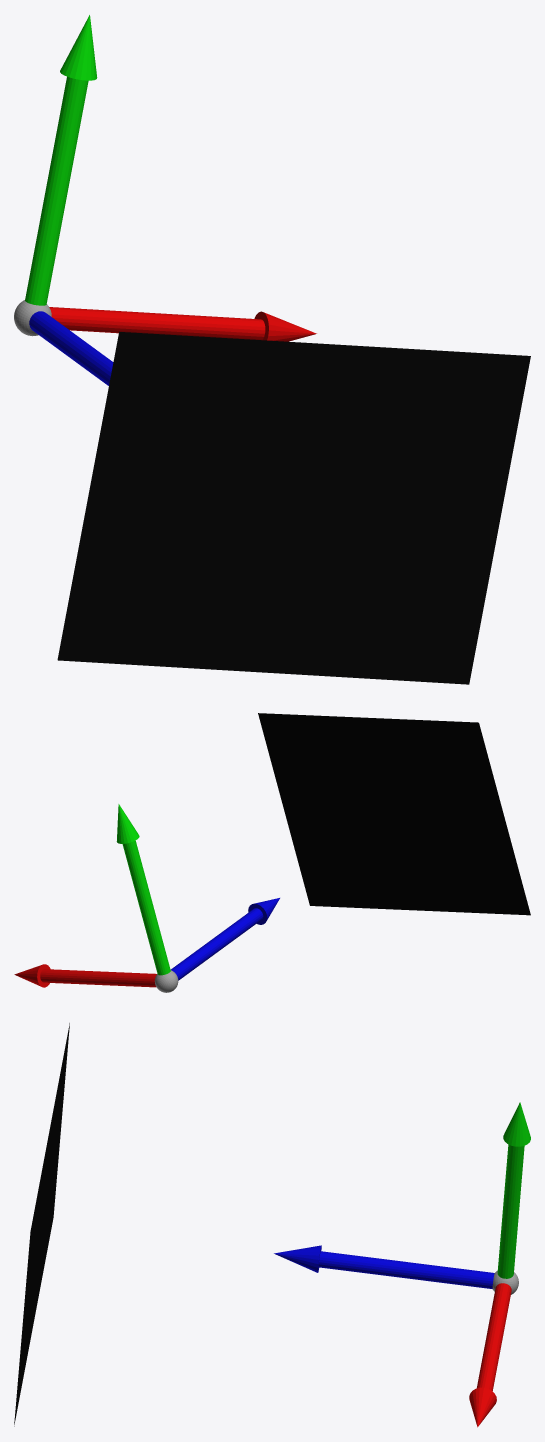
3 renders of one model, top to bottom at view 1: azimuth 30°, elevation 25°; view 2: azimuth 150°, elevation 25°; view 3: azimuth 270°, elevation 25°, orthographic. The views are drawn at different scales.
Bounding box in the file's own units: 0.249 × 0.1851 × 0.2767.
